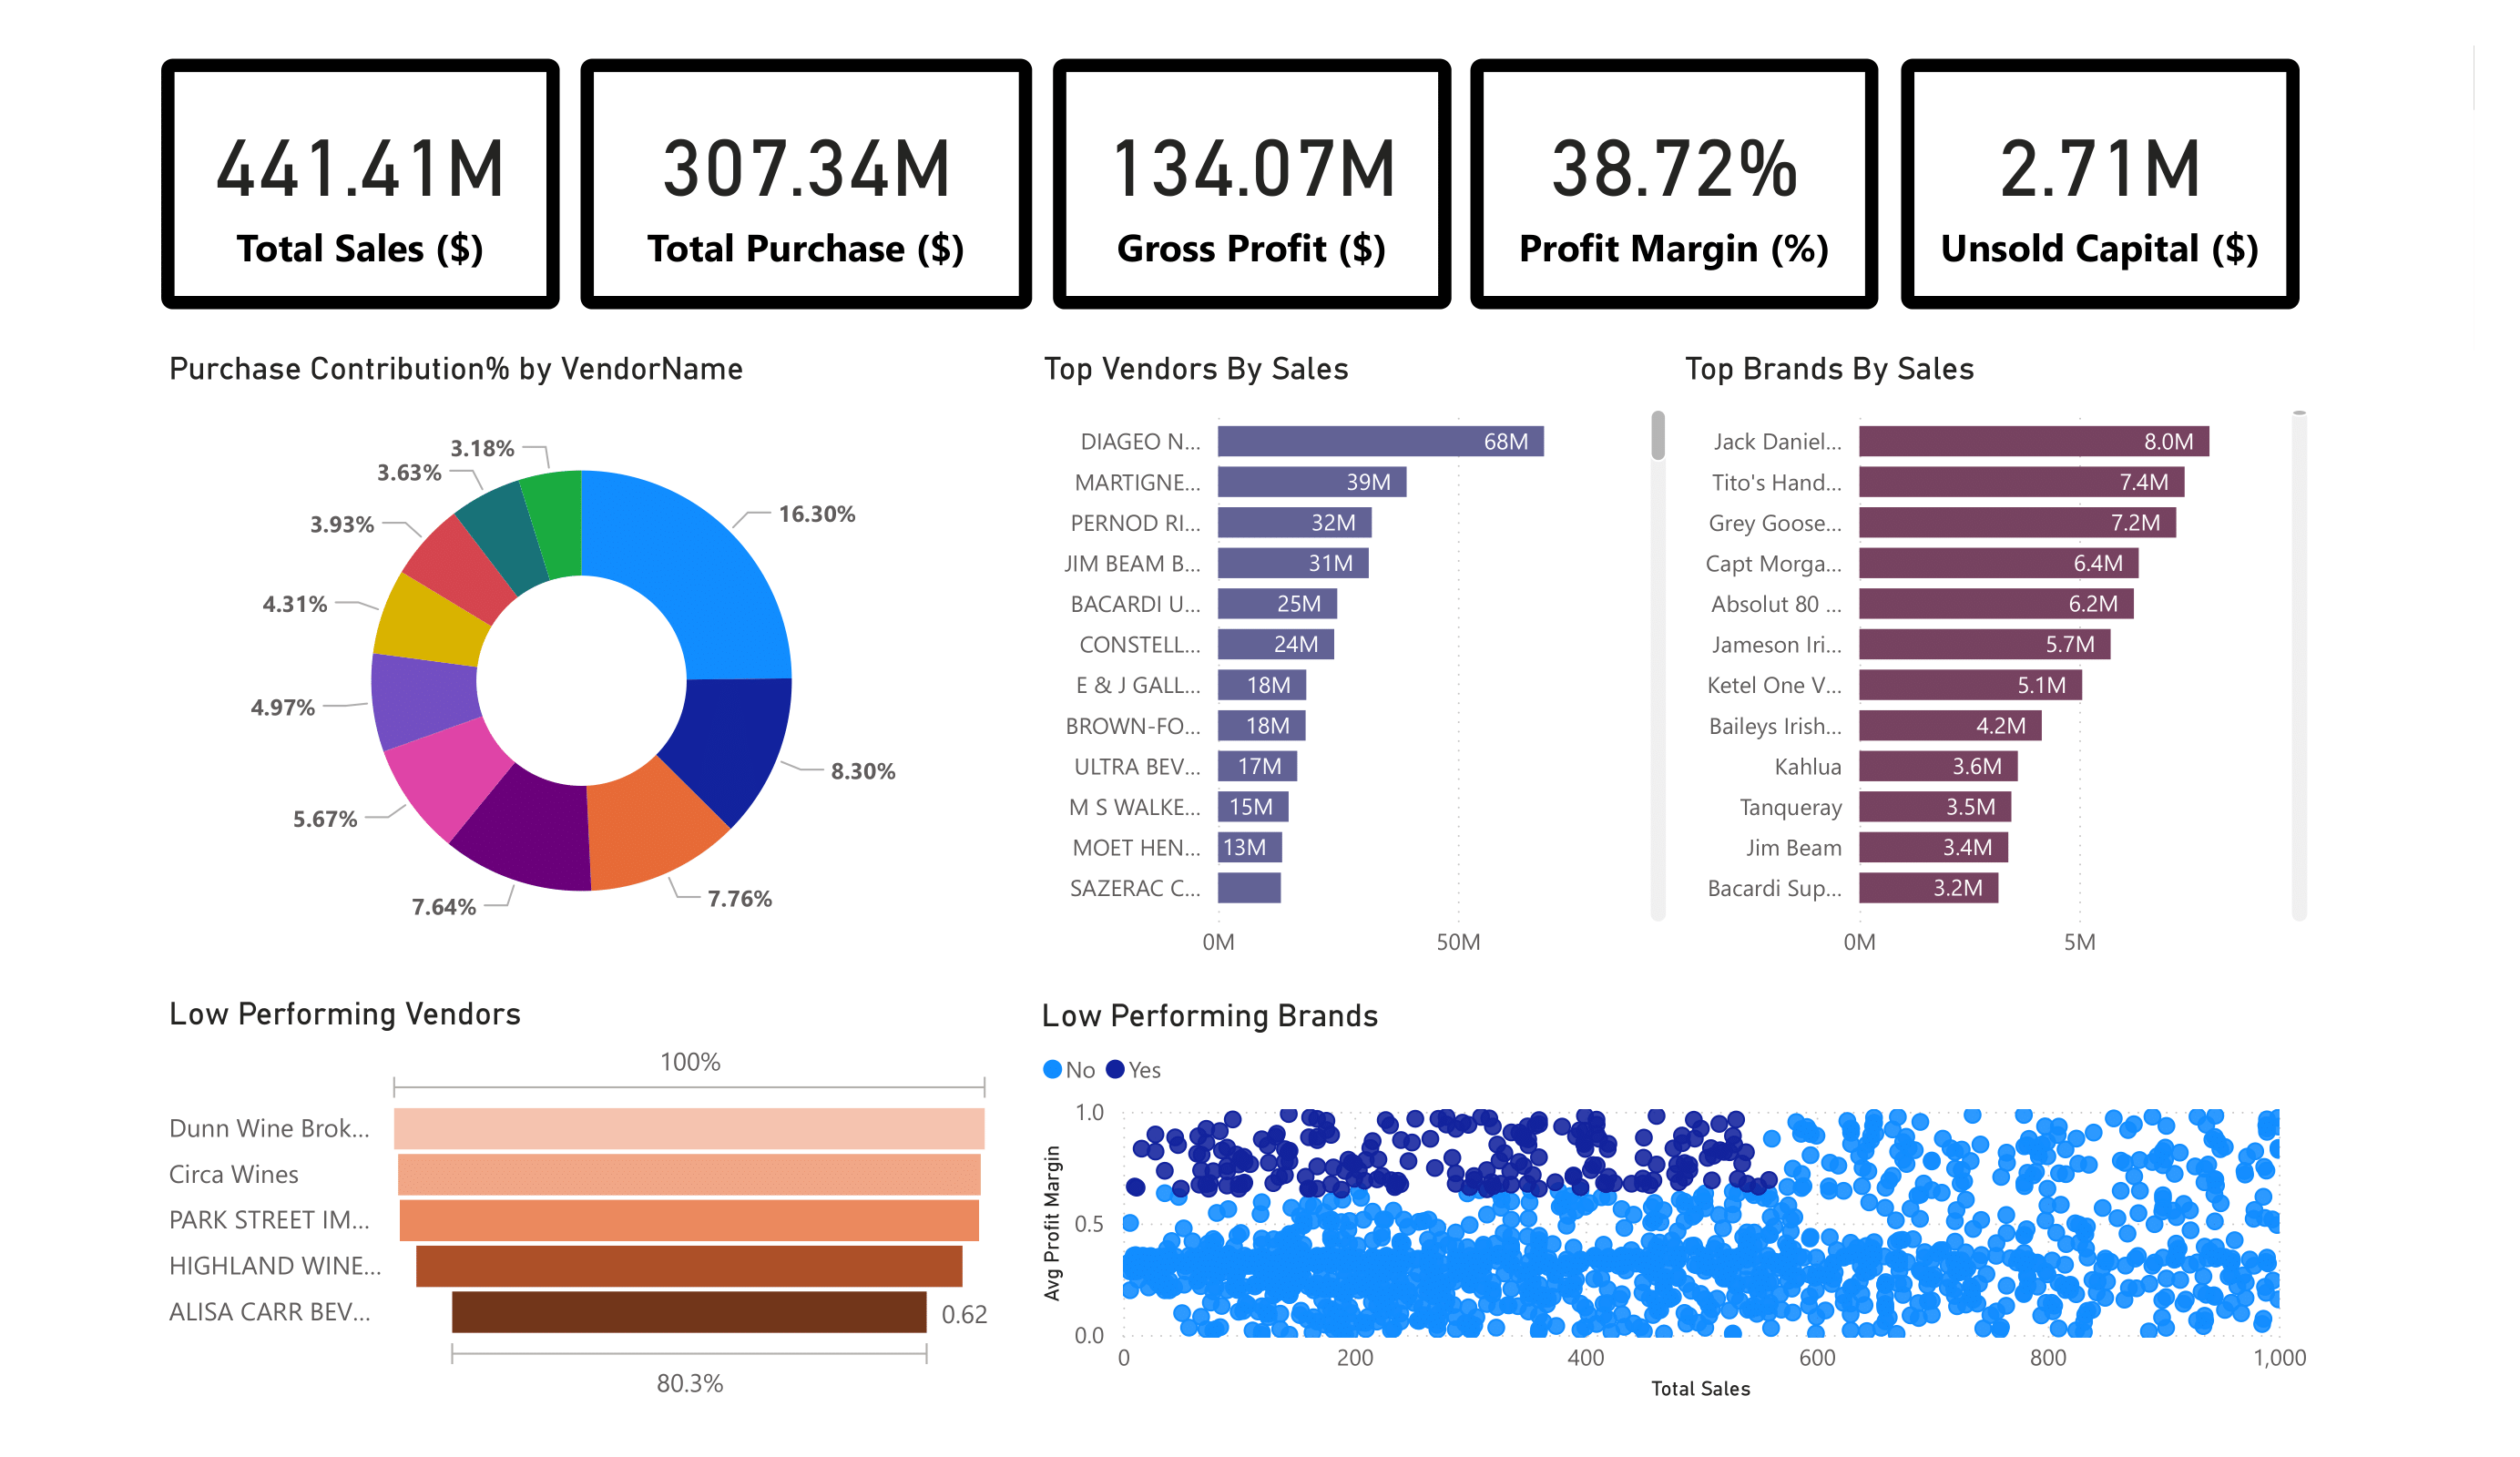

This screenshot's page, from the dashboard's own definition file:
{"tool":"powerbi","page":{"name":"Page 1","canvas":[1280,720],"ordinal":0},"visuals":[{"type":"card","fields":{"Values":["vendor_sales_summary.TotalSalesDollars"]},"box":[61.1,7.1,210.1,132.2],"z":0},{"type":"card","fields":{"Values":["vendor_sales_summary.TotalPurchaseDollars"]},"box":[281.8,7.1,238,131.4],"z":1000},{"type":"card","fields":{"Values":["vendor_sales_summary.GrossMargin"]},"box":[531.1,7.1,209.6,131.4],"z":2000},{"type":"card","fields":{"Values":["vendor_sales_summary.ProfitMargin"]},"box":[750.7,7.1,214.9,131.4],"z":3000},{"type":"card","fields":{"Values":["vendor_sales_summary.UnsoldCapital"]},"box":[978.1,7.1,209.6,131.4],"z":4000},{"type":"donutChart","title":"Purchase Contribution% by VendorName","fields":{"Category":["PurchaseContribution.VendorName"],"Y":["PurchaseContribution.PurchaseContribution%"]},"box":[60.2,159.8,444.7,331.2],"z":5000},{"type":"barChart","title":"Top Vendors By Sales","fields":{"Category":["vendor_sales_summary.VendorName"],"Y":["vendor_sales_summary.TotalSalesDollars"]},"box":[521.1,159.8,338.1,331.2],"z":6000},{"type":"barChart","title":"Top Brands By Sales","fields":{"Category":["vendor_sales_summary.Description"],"Y":["vendor_sales_summary.TotalSalesDollars"]},"box":[859.3,159.8,338.1,331.2],"z":7000},{"type":"funnel","title":"Low Performing Vendors","fields":{"Category":["LowTurnoverVendor.VendorName"],"Y":["LowTurnoverVendor.AvgStockTurnover"]},"box":[60.2,500.3,444.7,220],"z":8000},{"type":"scatterChart","title":"Low Performing Brands","fields":{"Series":["BrandPerformance.TargetBrand"],"Y":["BrandPerformance.AvgProfitMargin"],"X":["BrandPerformance.TotalSales"],"Category":["BrandPerformance.Description"]},"box":[520.4,500.9,676.7,218.5],"z":9000}]}

Visuals, with their boxes on the page's 1280x720 design canvas (x1, y1, x2, y2). These are canvas units, not pixel positions in the 2520x1457 screenshot, which may show the page scaled, cropped or inside an application window:
card - vendor_sales_summary.TotalSalesDollars: 61/7/271/139
card - vendor_sales_summary.TotalPurchaseDollars: 282/7/520/138
card - vendor_sales_summary.GrossMargin: 531/7/741/138
card - vendor_sales_summary.ProfitMargin: 751/7/966/138
card - vendor_sales_summary.UnsoldCapital: 978/7/1188/138
"Purchase Contribution% by VendorName" donutChart: 60/160/505/491
"Top Vendors By Sales" barChart: 521/160/859/491
"Top Brands By Sales" barChart: 859/160/1197/491
"Low Performing Vendors" funnel: 60/500/505/720
"Low Performing Brands" scatterChart: 520/501/1197/719
